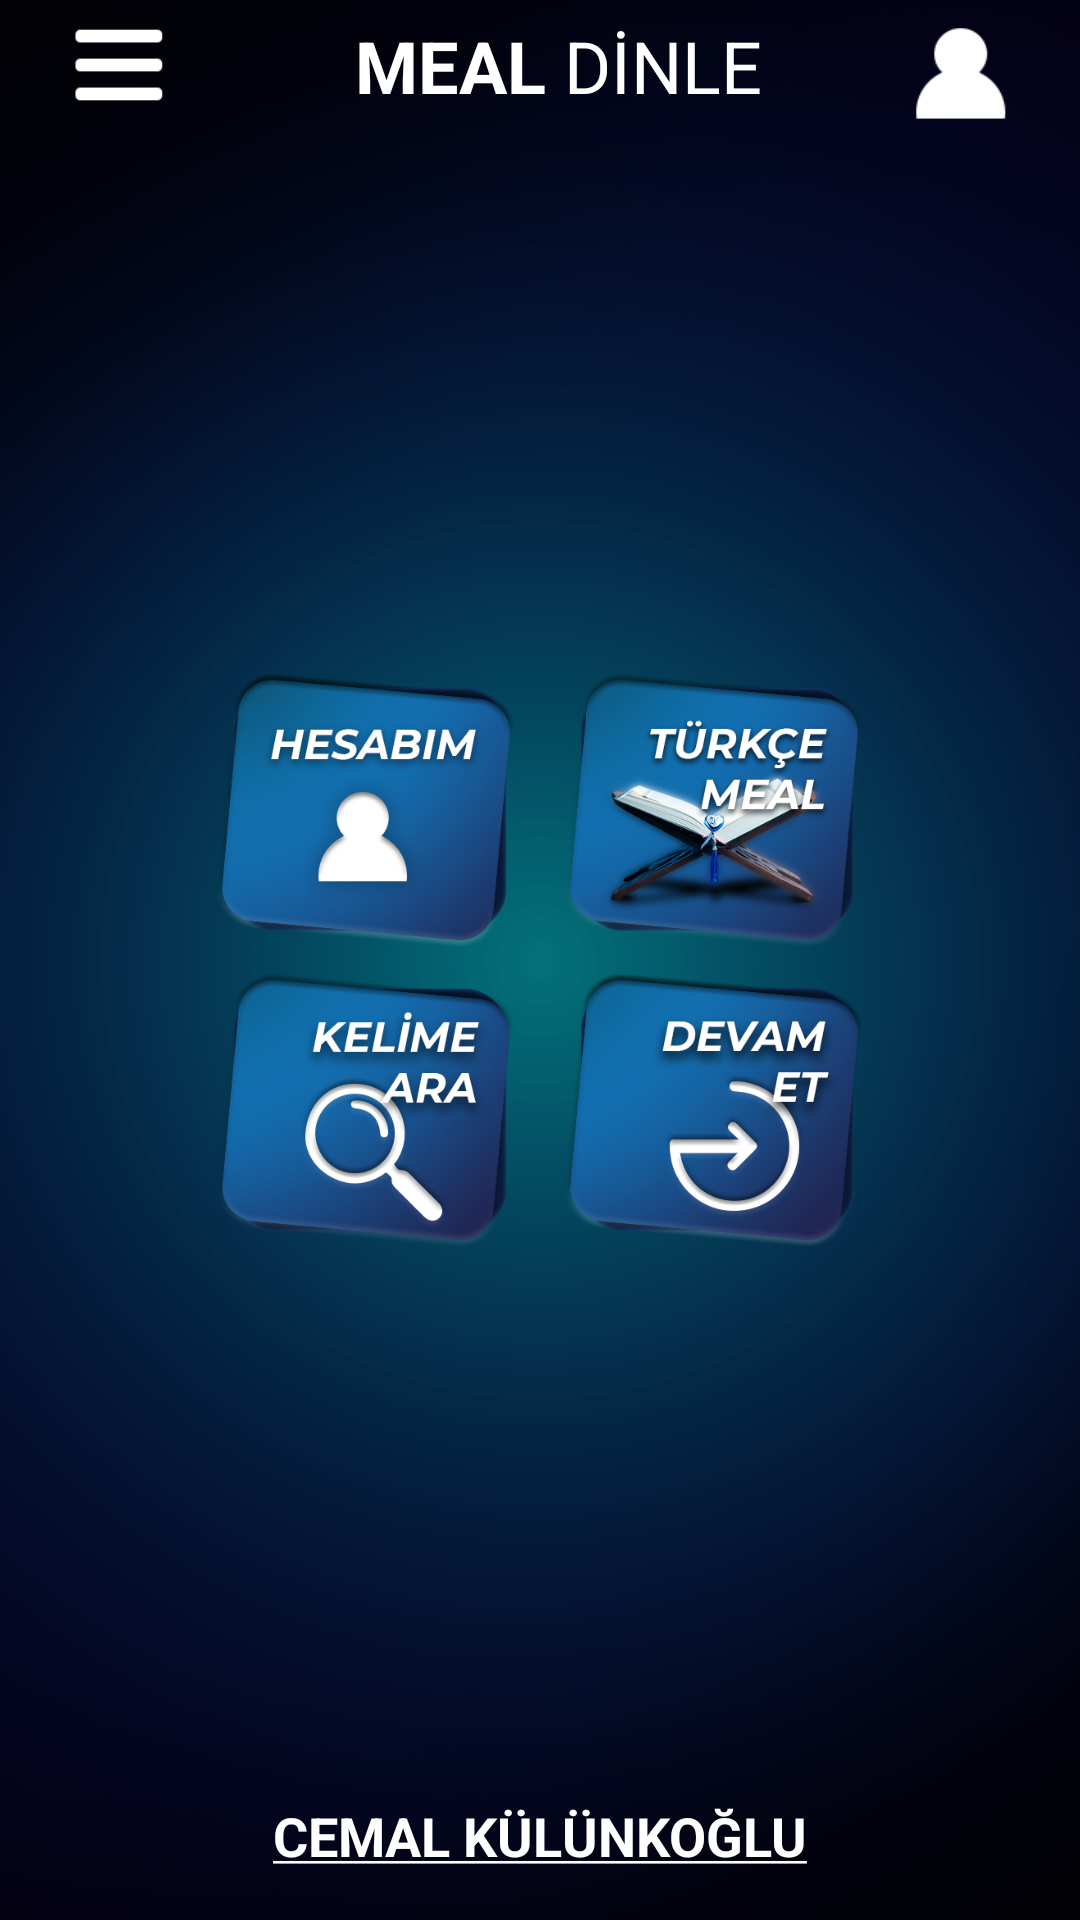

Icons on this 1080 × 1920 Android screen, each with its box as (x1, y1, x2, y2):
menu: (75, 29, 163, 101)
user: (916, 28, 1006, 119)
